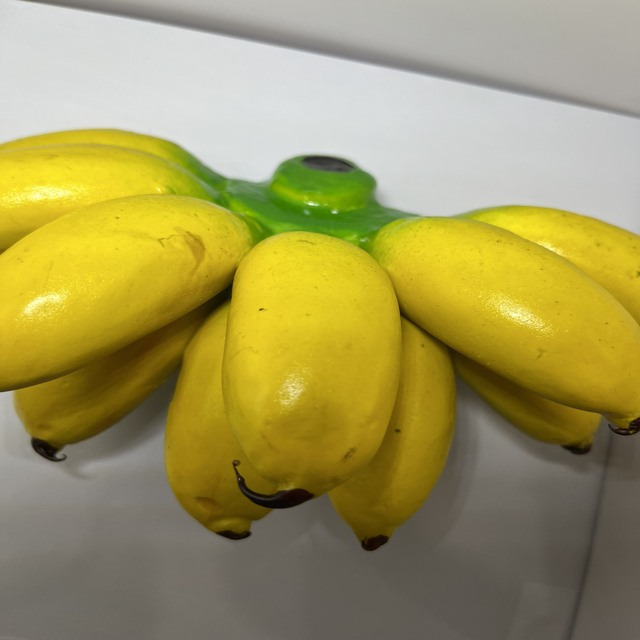Chuoi: (0, 122, 640, 556)
